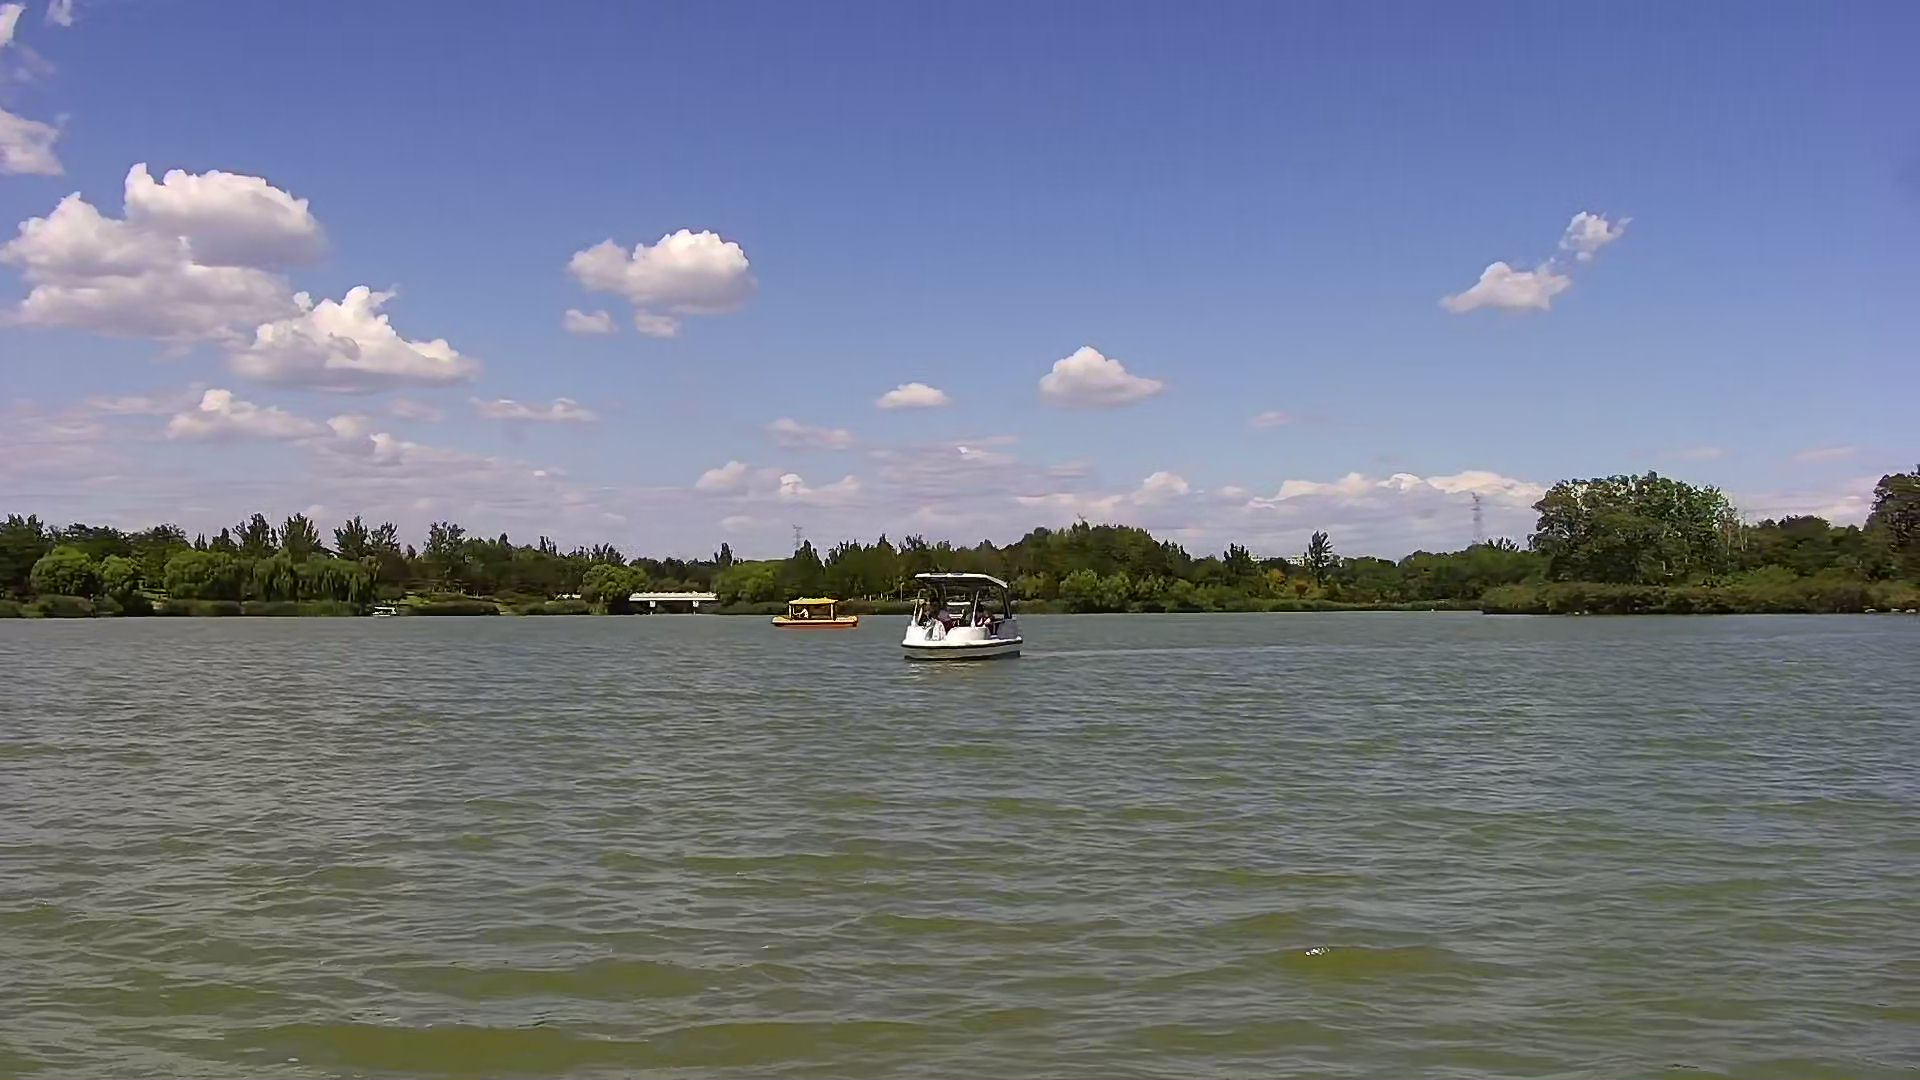boat: (907, 567, 1026, 657), (769, 595, 856, 626)
bridge: (632, 589, 717, 612)
